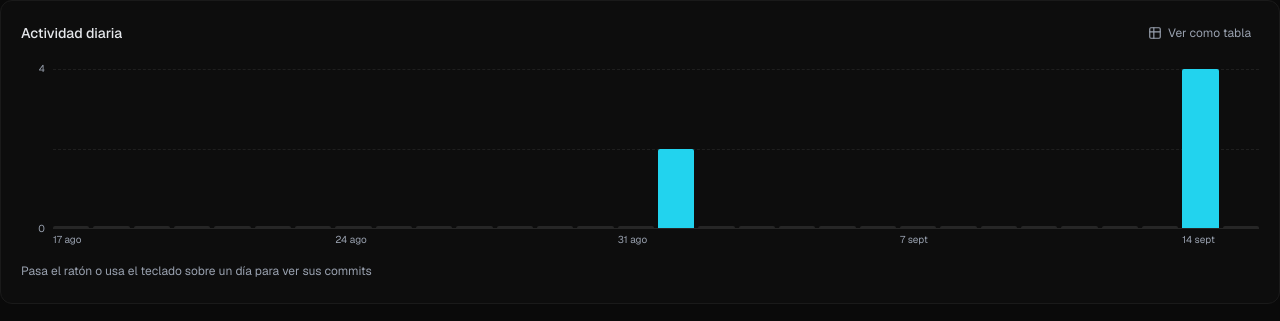
Scenario: ActivityCalendar › offers a table with only the days that have commits
Step 1. Click the button "Ver como tabla" → {"x": 1199, "y": 33}, box [1140,21,1259,45]
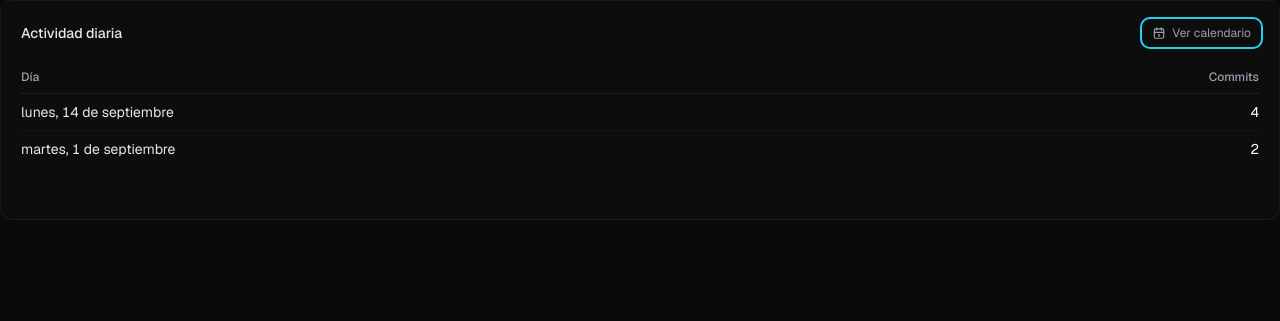
Now the button "Ver calendario" is shown, box [1144,21,1259,45]
